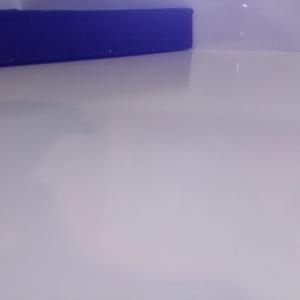zone: (1, 8, 193, 69)
